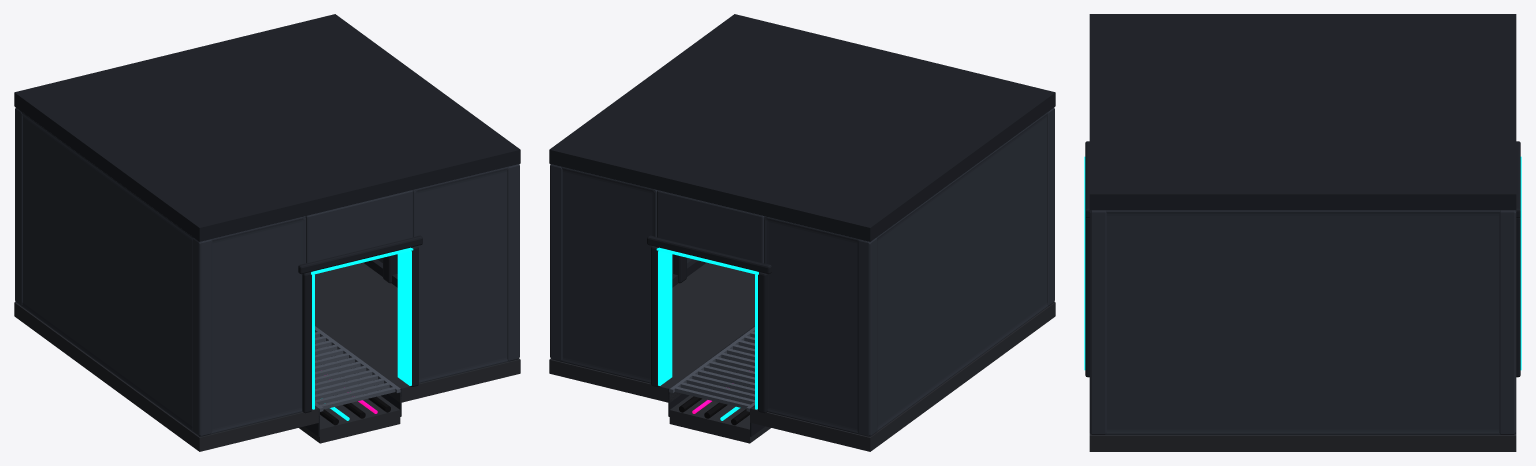
The model's file is Mod_Hallway_Straight.fbx.
3 renders of one model, left to right at view 1: azimuth 30°, elevation 25°; view 2: azimuth 150°, elevation 25°; view 3: azimuth 270°, elevation 25°, orthographic. The views are drawn at different scales.
Parts seen in each view (by area): view 1: Mod_Hallway_Straight__SteelPanel, Mod_Hallway_Straight__DarkMetal, Mod_Hallway_Straight__ConcreteFloor, Mod_Hallway_Straight__Grate, Mod_Hallway_Straight__NeonCyan; view 2: Mod_Hallway_Straight__SteelPanel, Mod_Hallway_Straight__DarkMetal, Mod_Hallway_Straight__ConcreteFloor, Mod_Hallway_Straight__Grate, Mod_Hallway_Straight__NeonCyan; view 3: Mod_Hallway_Straight__SteelPanel, Mod_Hallway_Straight__DarkMetal, Mod_Hallway_Straight__ConcreteFloor, Mod_Hallway_Straight__NeonCyan.
Boxes of the visible parts, x1=… form: Mod_Hallway_Straight__SteelPanel: x1=15, y1=107, x2=519, y2=436; Mod_Hallway_Straight__DarkMetal: x1=14, y1=14, x2=520, y2=436; Mod_Hallway_Straight__ConcreteFloor: x1=14, y1=262, x2=520, y2=451; Mod_Hallway_Straight__Grate: x1=315, y1=326, x2=400, y2=411; Mod_Hallway_Straight__NeonCyan: x1=311, y1=247, x2=413, y2=420; Mod_Hallway_Straight__SteelPanel: x1=550, y1=107, x2=1054, y2=436; Mod_Hallway_Straight__DarkMetal: x1=549, y1=14, x2=1055, y2=436; Mod_Hallway_Straight__ConcreteFloor: x1=549, y1=262, x2=1055, y2=451; Mod_Hallway_Straight__Grate: x1=669, y1=327, x2=754, y2=411; Mod_Hallway_Straight__NeonCyan: x1=656, y1=247, x2=758, y2=420; Mod_Hallway_Straight__SteelPanel: x1=1089, y1=210, x2=1516, y2=434; Mod_Hallway_Straight__DarkMetal: x1=1085, y1=14, x2=1520, y2=377; Mod_Hallway_Straight__ConcreteFloor: x1=1089, y1=433, x2=1516, y2=451; Mod_Hallway_Straight__NeonCyan: x1=1084, y1=156, x2=1521, y2=370.
Size of the model in its own units: 24 by 17.5 by 24.6.
